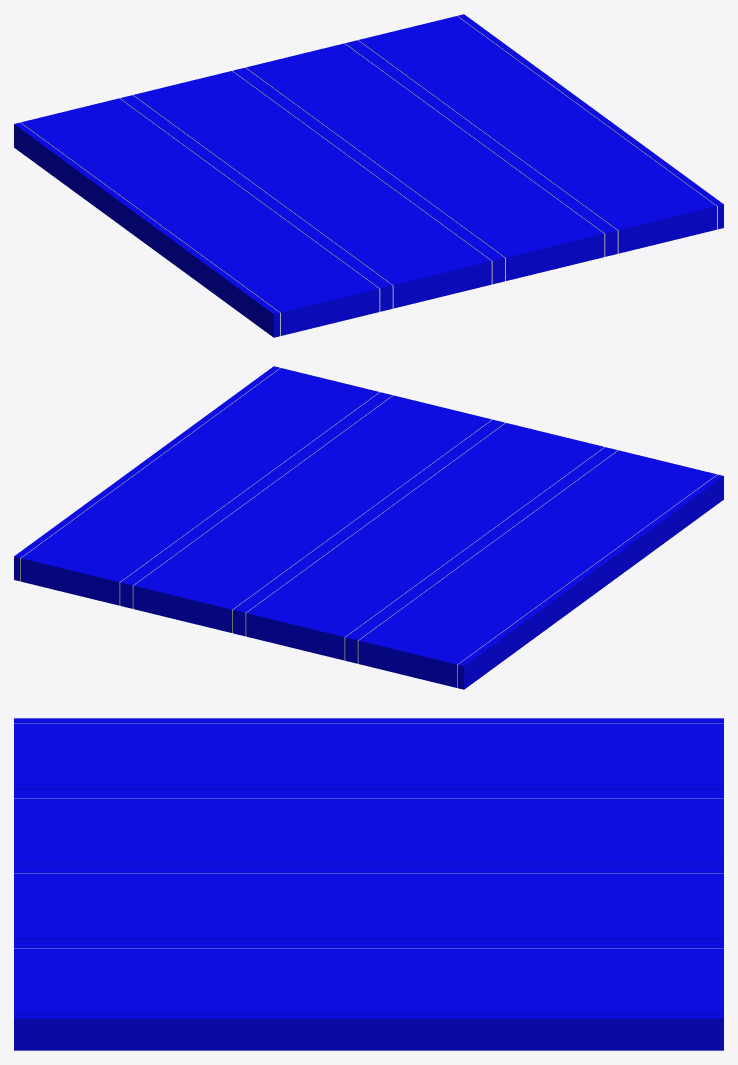
The model's file is FloorV2_3x3Merged.fbx.
3 views of the same model, one above another, from view 1: azimuth 30°, elevation 25°; view 2: azimuth 150°, elevation 25°; view 3: azimuth 270°, elevation 25° (orthographic). The views are drawn at different scales.
Visible parts, largest first — view 1: FloorV2_3x3_Combined; view 2: FloorV2_3x3_Combined; view 3: FloorV2_3x3_Combined.
Part boxes in pixels (box(x1,y1,x2,y2)): FloorV2_3x3_Combined: box(14, 14, 723, 337); FloorV2_3x3_Combined: box(14, 366, 723, 689); FloorV2_3x3_Combined: box(14, 718, 723, 1050).
Bounding box in the file's own units: 2000 × 100 × 2000.
